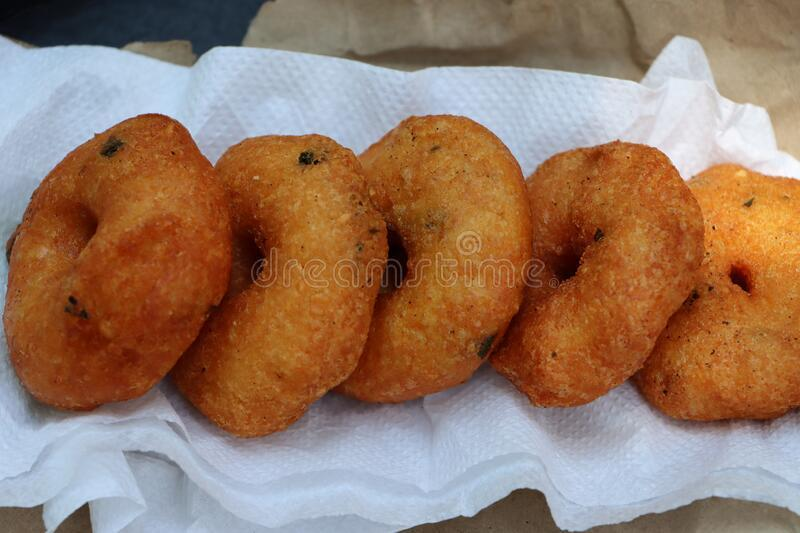mvada: (46, 122, 800, 367)
